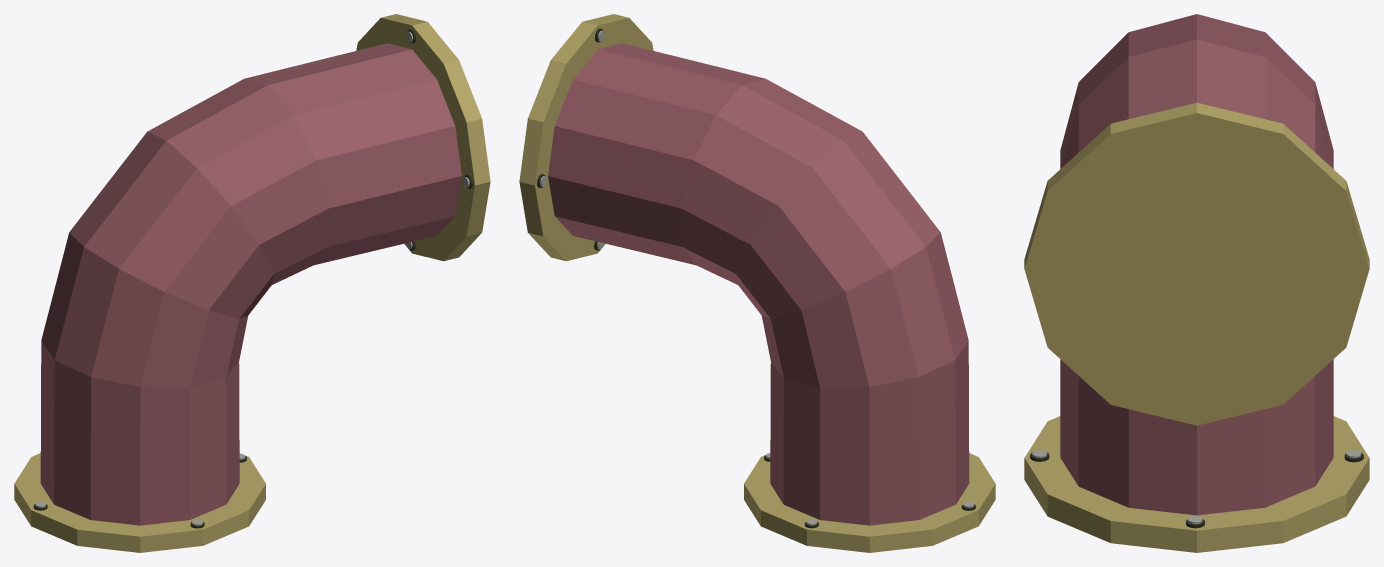
Rendered from Pipe_Round.fbx.
3 renders of one model, left to right at view 1: azimuth 30°, elevation 25°; view 2: azimuth 150°, elevation 25°; view 3: azimuth 270°, elevation 25°, orthographic. The views are drawn at different scales.
Parts seen in each view (by area): view 1: Pipe_Round, Cylinder.002, Cylinder; view 2: Pipe_Round, Cylinder.002, Cylinder; view 3: Cylinder.002, Pipe_Round, Cylinder.
Boxes of the visible parts, <box> form: Pipe_Round: <box>40,43,461,525</box>; Cylinder.002: <box>356,14,490,261</box>; Cylinder: <box>14,453,265,552</box>; Pipe_Round: <box>548,43,969,525</box>; Cylinder.002: <box>519,14,653,261</box>; Cylinder: <box>744,453,995,552</box>; Cylinder.002: <box>1024,102,1369,425</box>; Pipe_Round: <box>1060,14,1333,515</box>; Cylinder: <box>1024,416,1369,552</box>.
Size of the model in its own units: 27.58 by 27.58 by 15.16.
